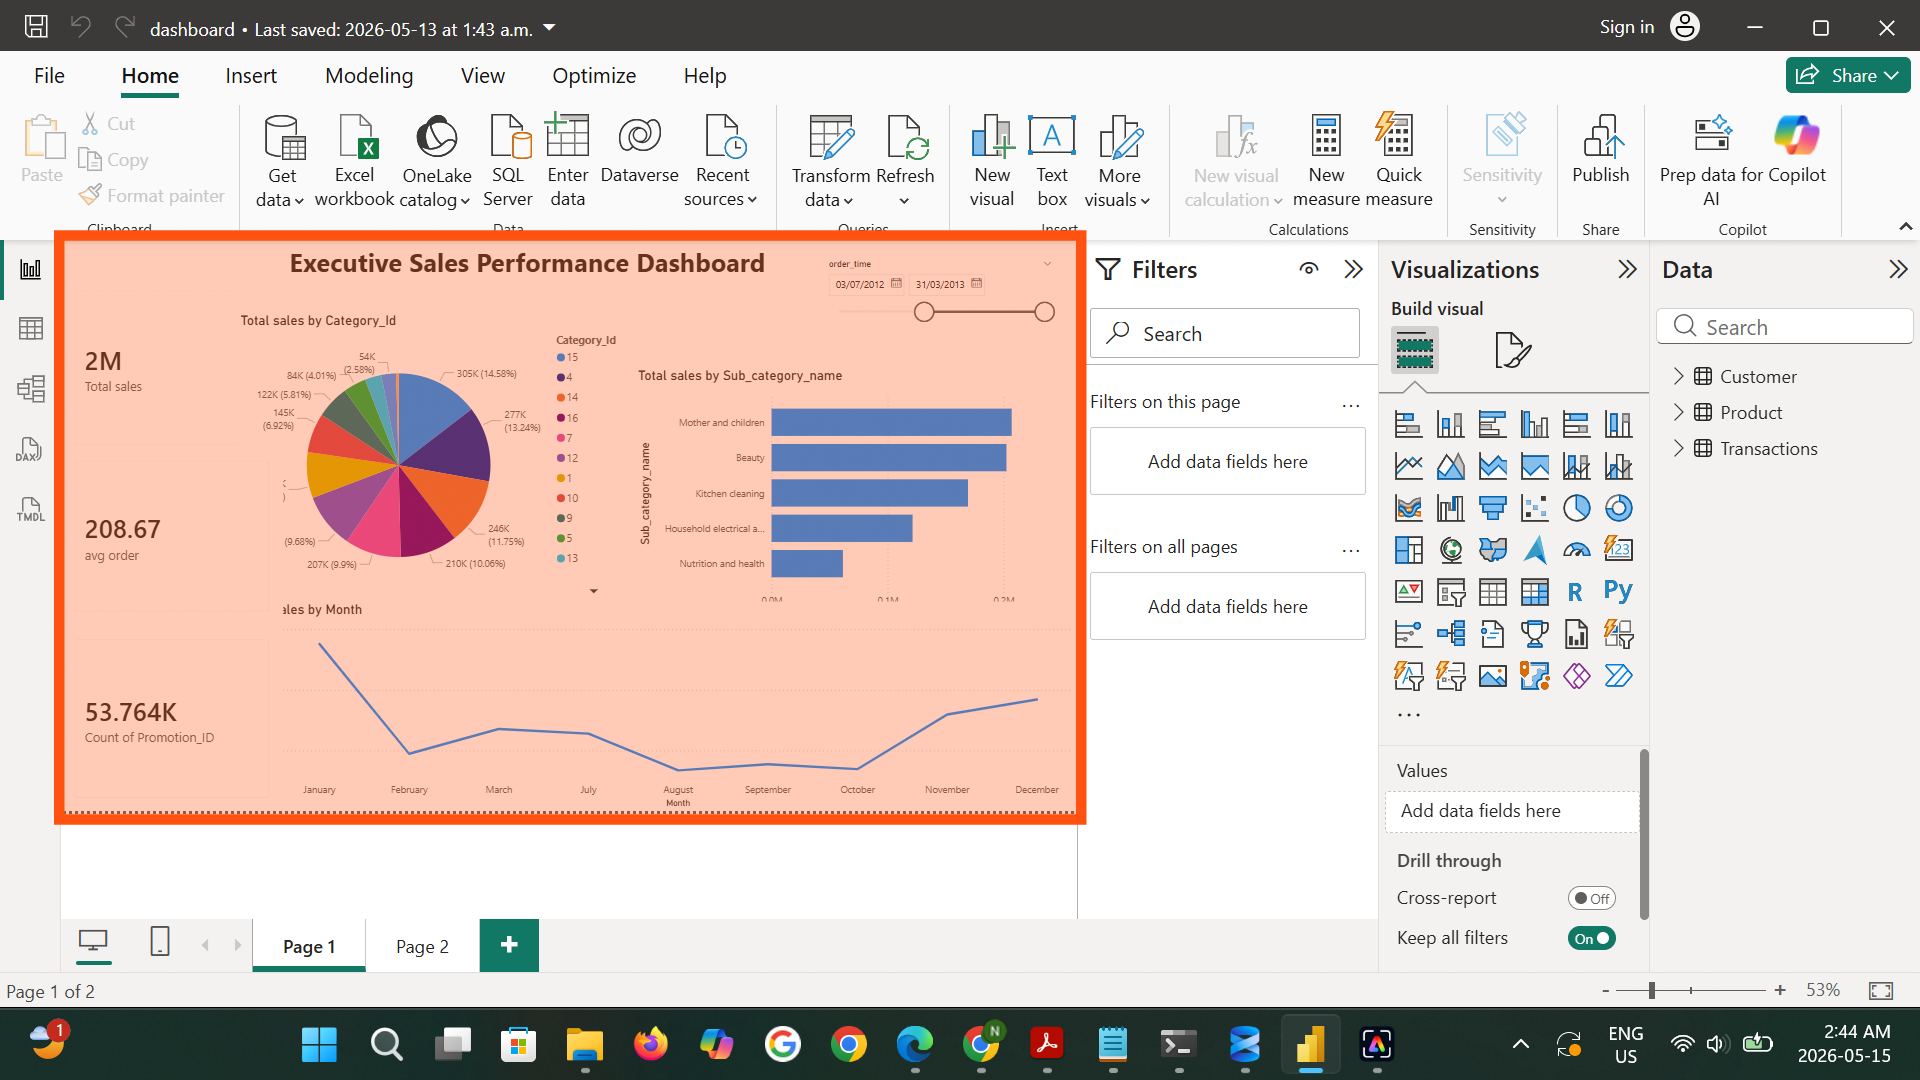

The dashboard page shown, as its layout file describes it:
{"tool":"powerbi","page":{"name":"Page 1","canvas":[1280,720],"ordinal":0},"visuals":[{"type":"cardVisual","fields":{"Data":["Transactions.Total sales"]},"box":[0,45.4,279.7,230.6],"z":0},{"type":"clusteredBarChart","fields":{"Category":["Product.Sub_category_name"],"Y":["Transactions.Total sales"]},"box":[721.9,160.6,557.5,325],"z":1000},{"type":"pieChart","fields":{"Category":["Product.Category_Id"],"Y":["Transactions.Total sales"]},"box":[221.1,90.7,500.8,364.7],"z":2000},{"type":"lineChart","fields":{"Category":["Transactions.order_time.Variation.Date Hierarchy.Year","Transactions.order_time.Variation.Date Hierarchy.Month"],"Y":["Transactions.Total sales"]},"box":[221.1,455.4,1058.3,264.6],"z":3000},{"type":"cardVisual","fields":{"Data":["Transactions.avg order"]},"box":[0,260.8,279.7,224.9],"z":4000},{"type":"cardVisual","fields":{"Data":["CountNonNull(Transactions.Promotion_ID)"]},"box":[0,485.7,279.7,234.3],"z":5000},{"type":"slicer","fields":{"Values":["Transactions.order_time"]},"box":[954.3,18.9,306.1,94.5],"z":6000},{"type":"textbox","box":[221.1,0,733.2,90.7],"z":7000}]}

Visuals, with their boxes on the page's 1280x720 design canvas (x1, y1, x2, y2). These are canvas units, not pixel positions in the 1920x1080 screenshot, which may show the page scaled, cropped or inside an application window:
cardVisual - Transactions.Total sales: bbox=(0, 45, 280, 276)
clusteredBarChart - Product.Sub_category_name x Transactions.Total sales: bbox=(722, 161, 1279, 486)
pieChart - Product.Category_Id x Transactions.Total sales: bbox=(221, 91, 722, 455)
lineChart - Transactions.order_time.Variation.Date Hierarchy.Year x Transactions.order_time.Variation.Date Hierarchy.Month: bbox=(221, 455, 1279, 720)
cardVisual - Transactions.avg order: bbox=(0, 261, 280, 486)
cardVisual - CountNonNull(Transactions.Promotion_ID): bbox=(0, 486, 280, 720)
slicer - Transactions.order_time: bbox=(954, 19, 1260, 113)
textbox: bbox=(221, 0, 954, 91)
